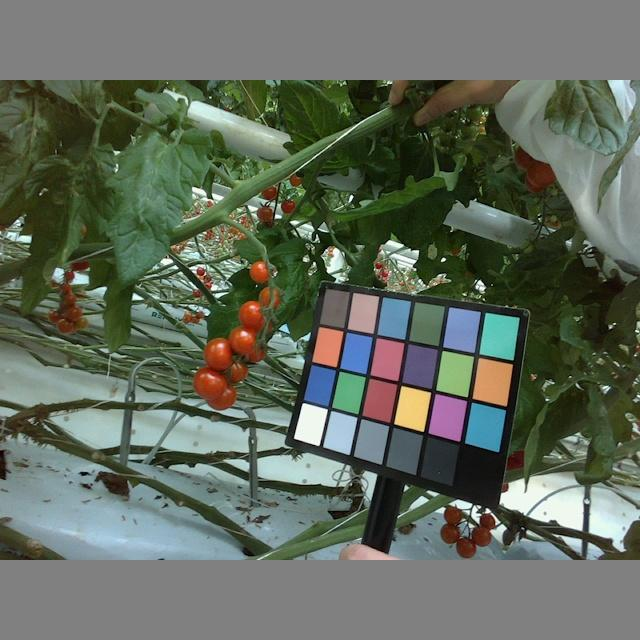pink: (247, 259, 273, 284), (257, 285, 282, 308), (256, 206, 272, 221)
red: (191, 367, 227, 400), (225, 322, 259, 355), (201, 337, 235, 369), (239, 298, 268, 330), (262, 186, 277, 201), (281, 200, 294, 215)
